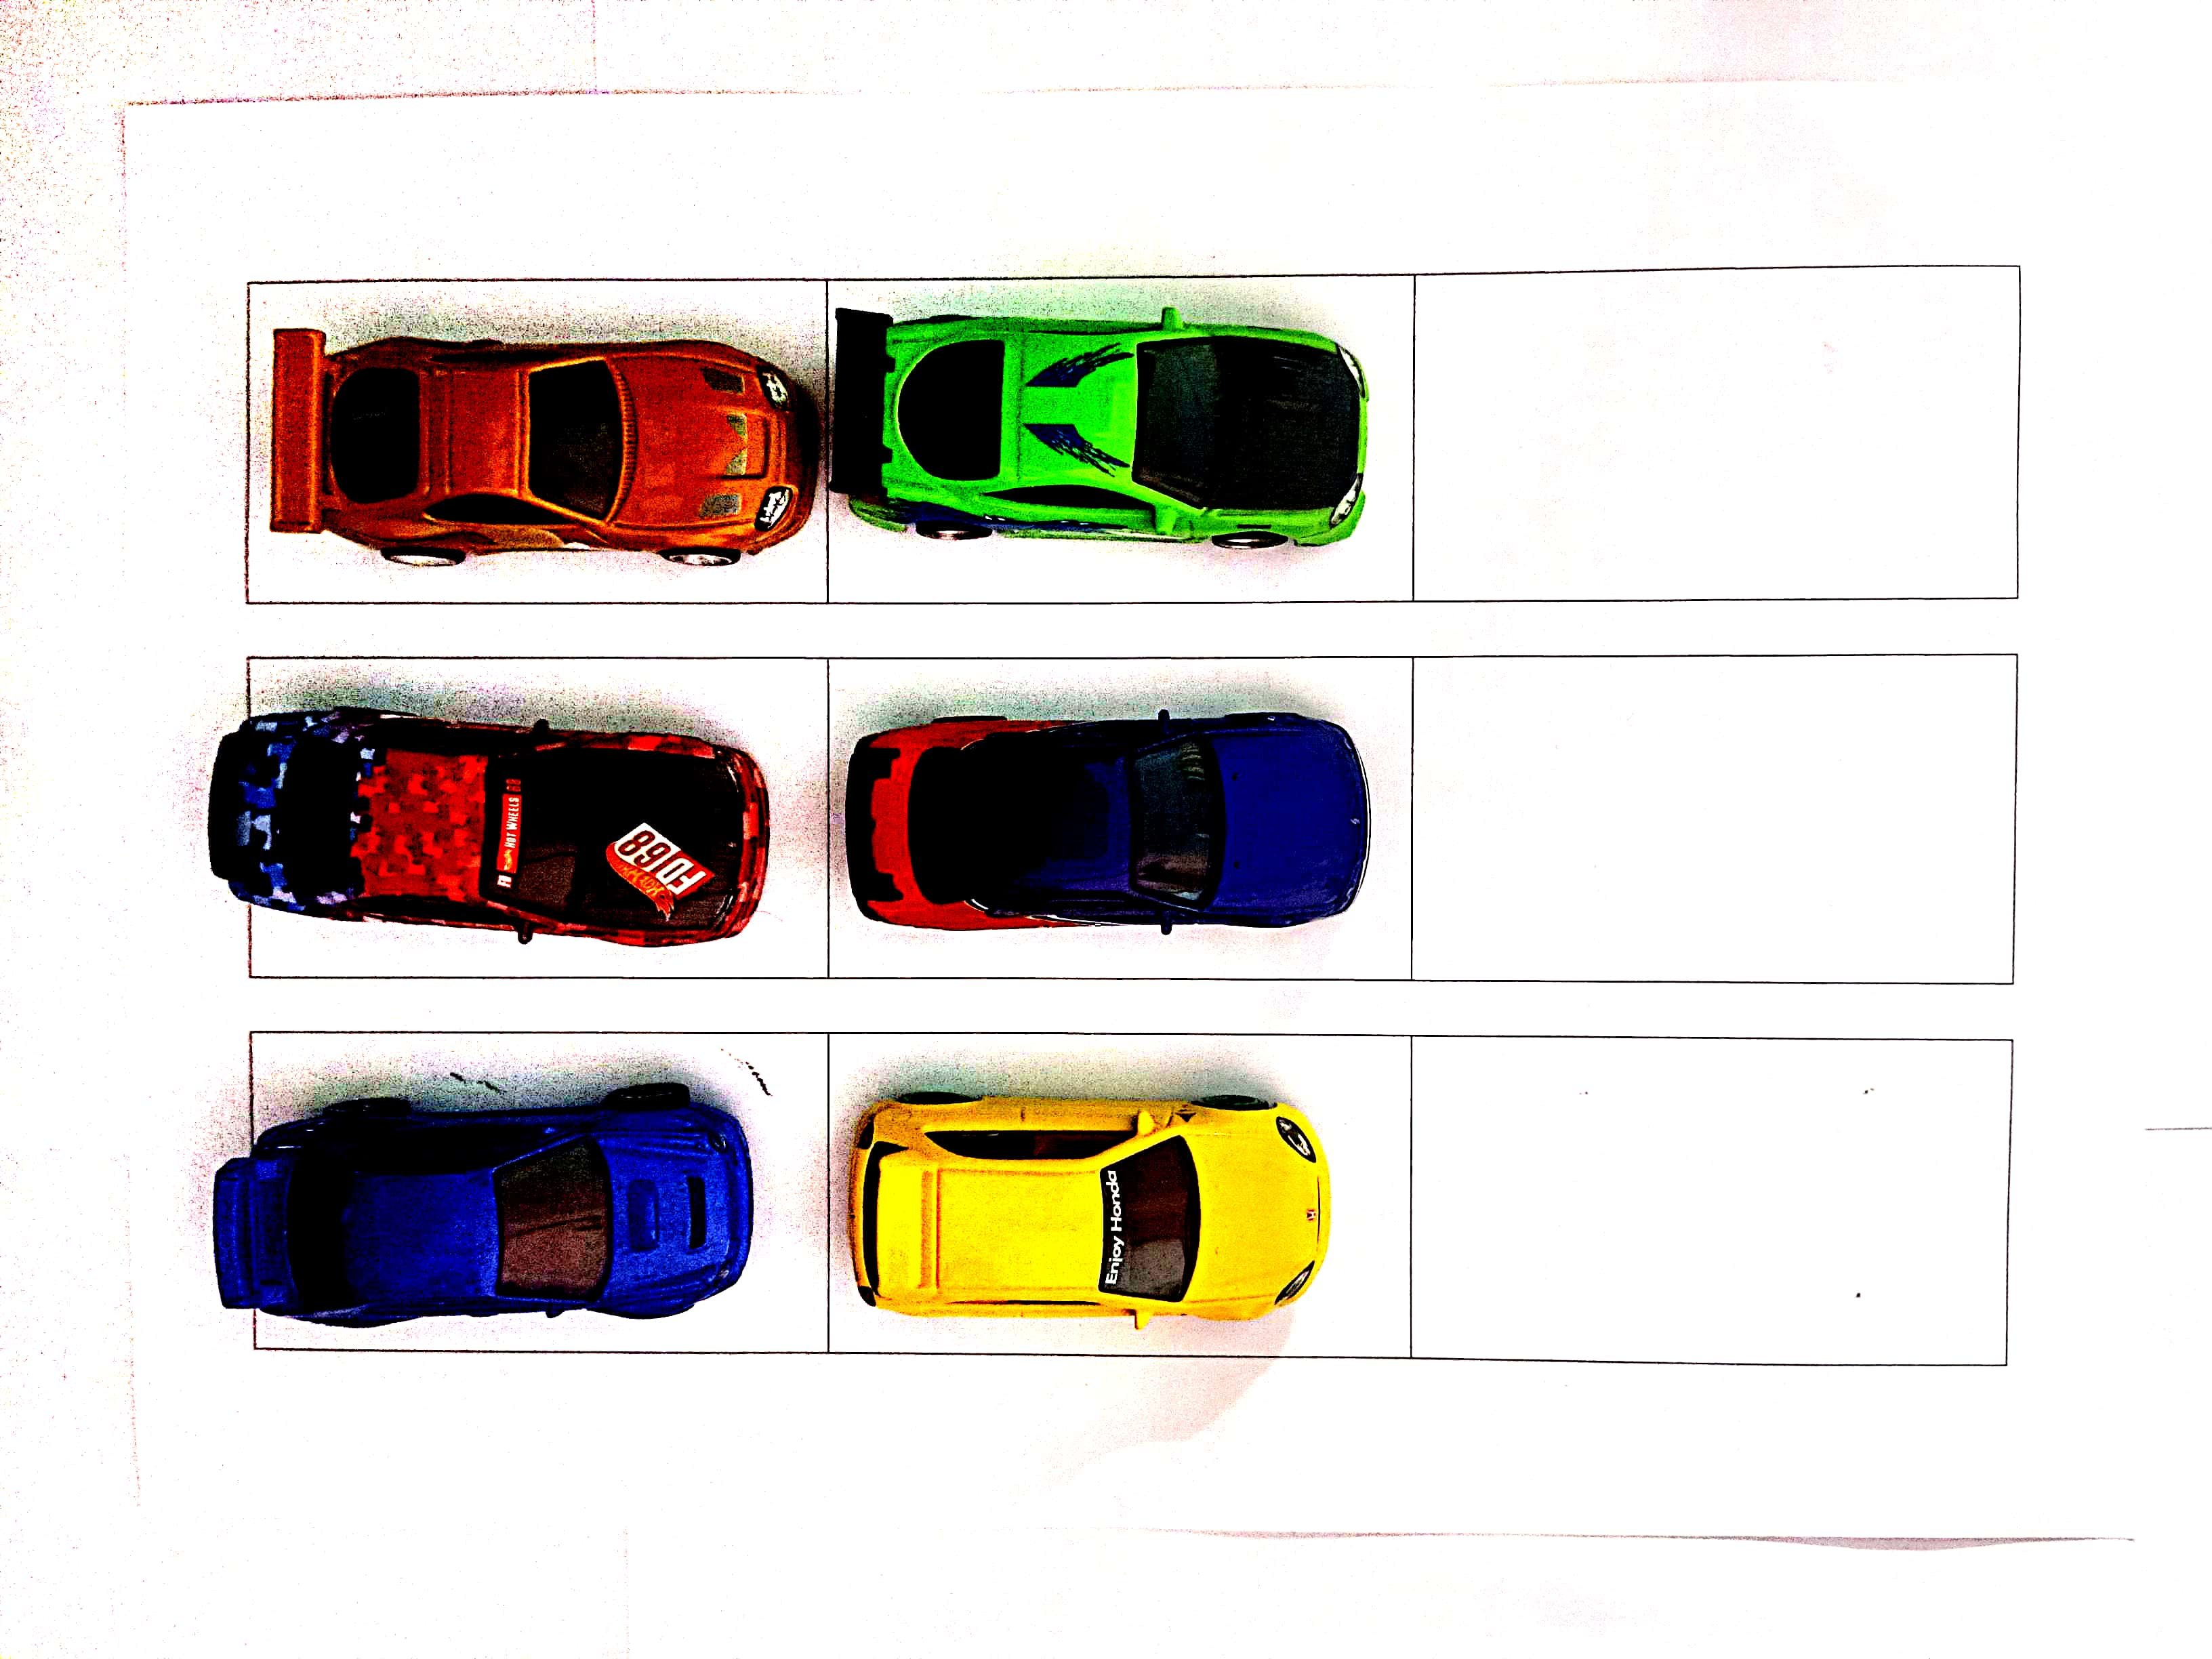Busy: (824, 272, 1418, 596), (254, 1025, 827, 1351), (827, 1039, 1413, 1358), (253, 282, 827, 601), (827, 659, 1409, 972), (249, 655, 824, 972)
Free: (1418, 274, 2017, 596), (1414, 1040, 2006, 1366), (1409, 655, 2017, 972)
